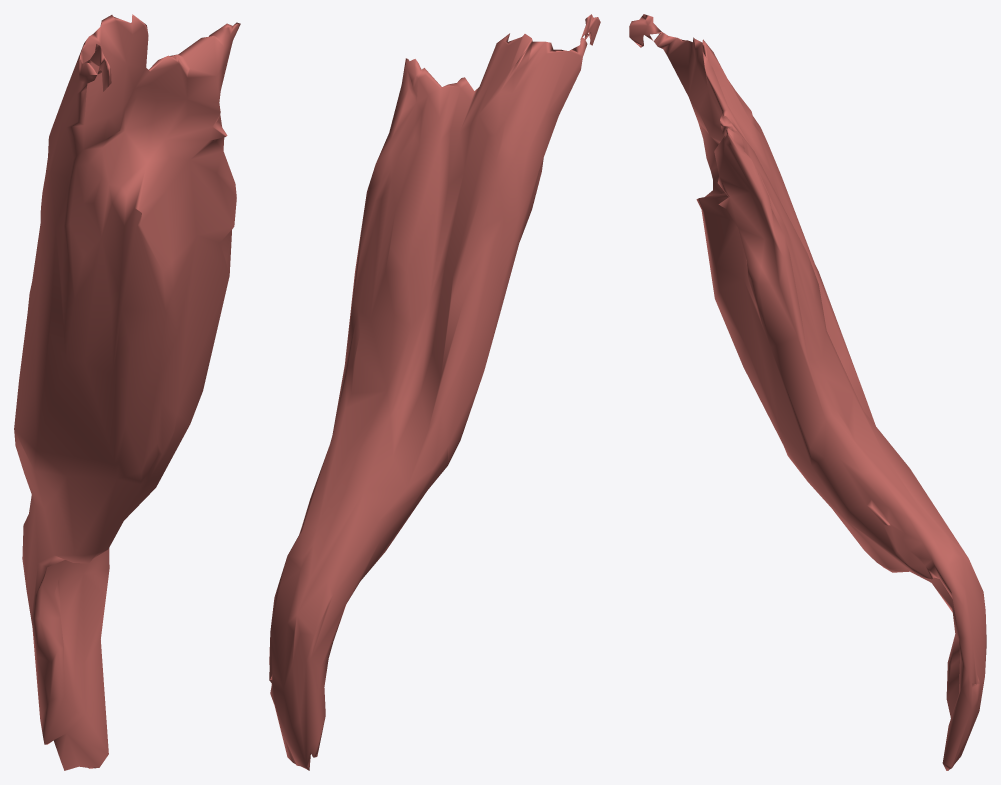
3 renders of one model, left to right at view 1: azimuth 30°, elevation 25°; view 2: azimuth 150°, elevation 25°; view 3: azimuth 270°, elevation 25°, orthographic. The views are drawn at different scales.
Parts seen in each view (by area): view 1: 左侧踇短屈肌外侧头; view 2: 左侧踇短屈肌外侧头; view 3: 左侧踇短屈肌外侧头.
Part boxes in pixels (x1,y1,x2,y2): 左侧踇短屈肌外侧头: (14, 14, 240, 770); 左侧踇短屈肌外侧头: (269, 14, 600, 770); 左侧踇短屈肌外侧头: (629, 14, 986, 770).
Bounding box in the file's own units: 0.0308 × 0.1198 × 0.0567.
